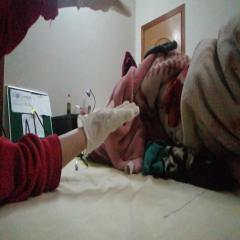gloved: (79, 100, 139, 143), (76, 0, 132, 17)
